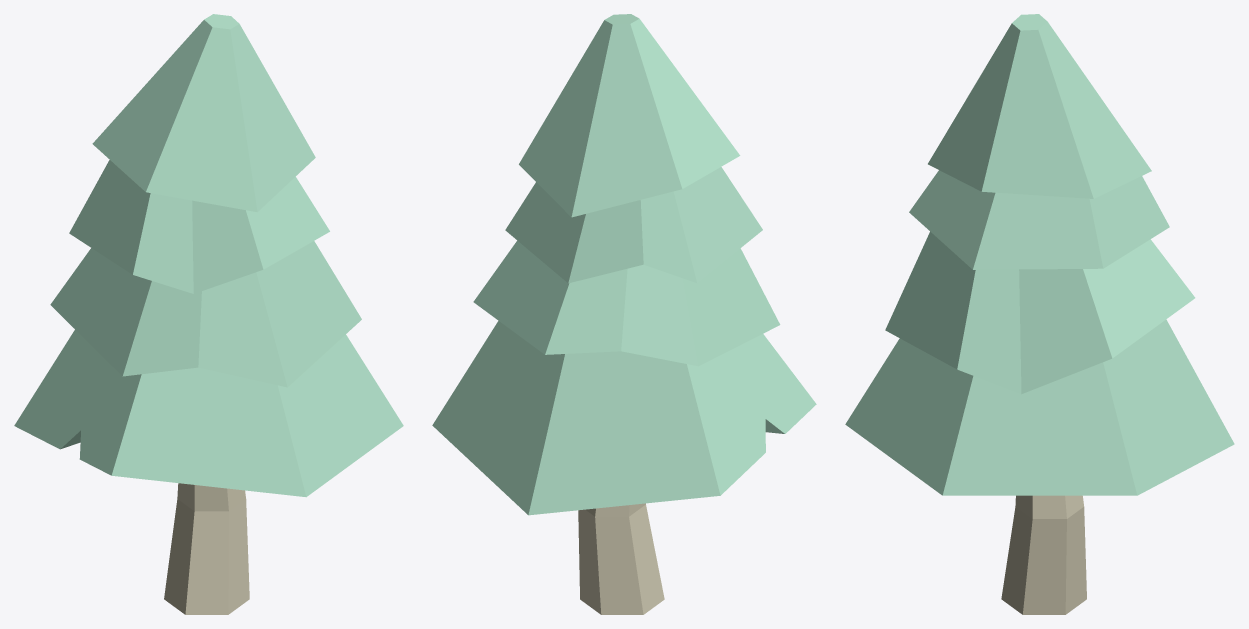
The model's file is tree.fbx.
3 renders of one model, left to right at view 1: azimuth 30°, elevation 25°; view 2: azimuth 150°, elevation 25°; view 3: azimuth 270°, elevation 25°, orthographic.
Parts seen in each view (by area): view 1: Cylinder.001, Cylinder.002, Cylinder.004, Cylinder.003, Cylinder; view 2: Cylinder.001, Cylinder.004, Cylinder.002, Cylinder.003, Cylinder; view 3: Cylinder.001, Cylinder.002, Cylinder.004, Cylinder.003, Cylinder.
Boxes of the visible parts, x1=… form: Cylinder.001: x1=14, y1=329, x2=403, y2=497; Cylinder.002: x1=50, y1=241, x2=361, y2=387; Cylinder.004: x1=92, y1=14, x2=315, y2=212; Cylinder.003: x1=69, y1=160, x2=329, y2=293; Cylinder: x1=164, y1=483, x2=249, y2=614; Cylinder.001: x1=432, y1=321, x2=816, y2=515; Cylinder.004: x1=519, y1=14, x2=740, y2=217; Cylinder.002: x1=473, y1=240, x2=780, y2=366; Cylinder.003: x1=505, y1=167, x2=762, y2=283; Cylinder: x1=578, y1=503, x2=664, y2=614; Cylinder.001: x1=845, y1=319, x2=1234, y2=495; Cylinder.002: x1=885, y1=231, x2=1195, y2=394; Cylinder.004: x1=928, y1=14, x2=1151, y2=198; Cylinder.003: x1=909, y1=170, x2=1169, y2=269; Cylinder: x1=1001, y1=495, x2=1086, y2=614.
Size of the model in its own units: 477 by 908 by 550.
